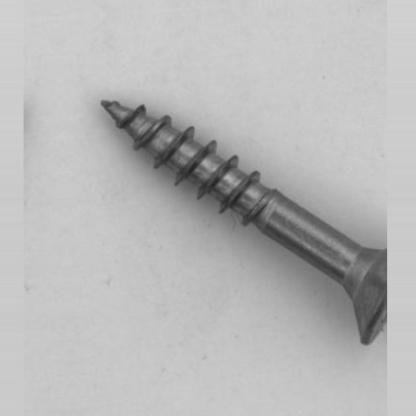metal: (99, 98, 386, 345)
